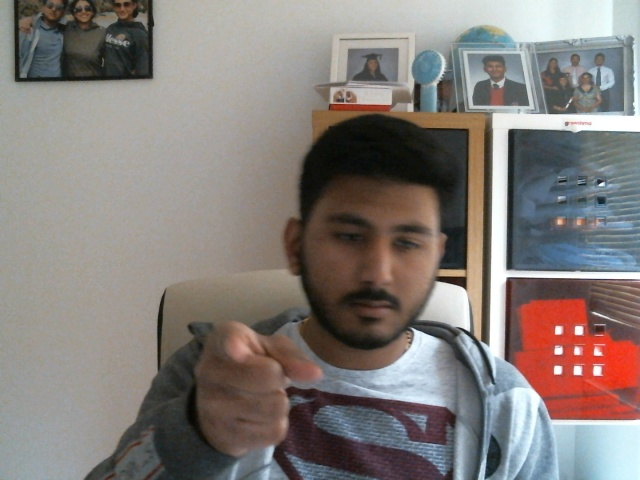you: (195, 321, 323, 453)
